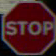Stop: (2, 4, 53, 52)
